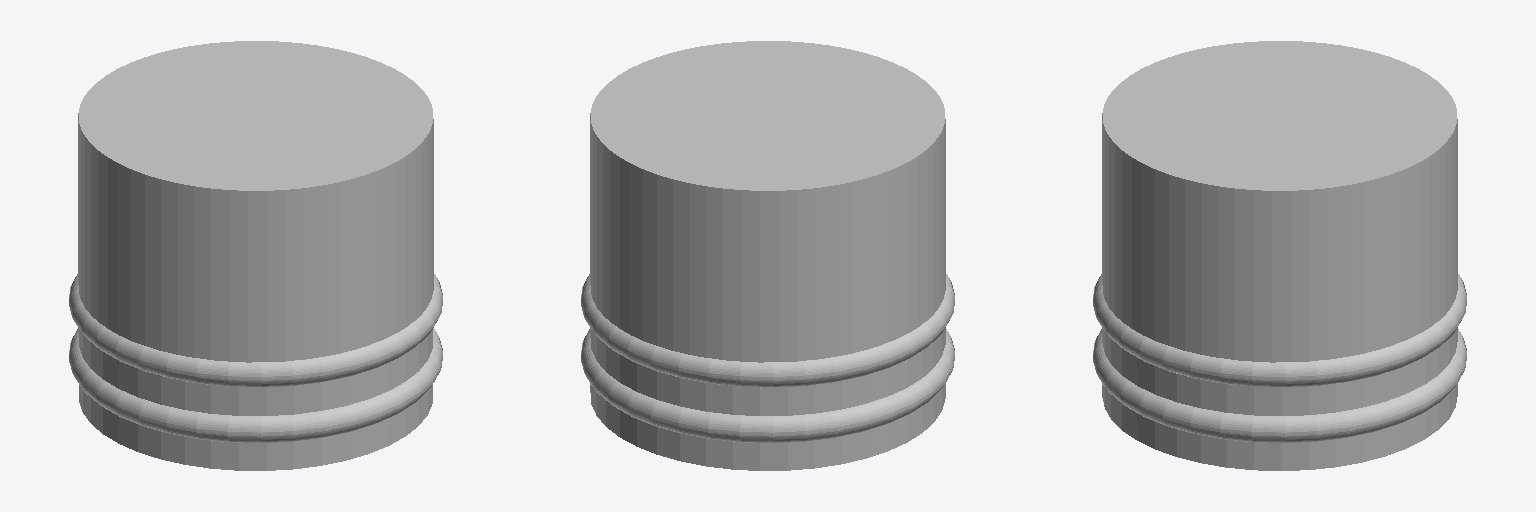
File: bombilla14.obj
The picture shows the model from 3 angles: view 1: azimuth 30°, elevation 25°; view 2: azimuth 150°, elevation 25°; view 3: azimuth 270°, elevation 25°; orthographic projection.
Parts seen in each view (by area): view 1: Cylinder001, Cylinder004, Cylinder003, Cylinder002, Cylinder006; view 2: Cylinder001, Cylinder004, Cylinder003, Cylinder002, Cylinder006; view 3: Cylinder001, Cylinder004, Cylinder003, Cylinder002, Cylinder006.
Part boxes in pixels (left/top/right/bottom): Cylinder001: left=78, top=41, right=433, bottom=362; Cylinder004: left=69, top=328, right=442, bottom=442; Cylinder003: left=79, top=329, right=432, bottom=415; Cylinder002: left=69, top=274, right=442, bottom=387; Cylinder006: left=79, top=385, right=432, bottom=470; Cylinder001: left=590, top=41, right=945, bottom=362; Cylinder004: left=581, top=329, right=954, bottom=442; Cylinder003: left=590, top=328, right=945, bottom=415; Cylinder002: left=581, top=274, right=954, bottom=387; Cylinder006: left=590, top=383, right=945, bottom=470; Cylinder001: left=1102, top=41, right=1457, bottom=362; Cylinder004: left=1093, top=329, right=1466, bottom=442; Cylinder003: left=1102, top=328, right=1457, bottom=415; Cylinder002: left=1093, top=274, right=1466, bottom=387; Cylinder006: left=1102, top=383, right=1457, bottom=470.
Size of the model in its own units: 72.22 by 59.56 by 72.21.